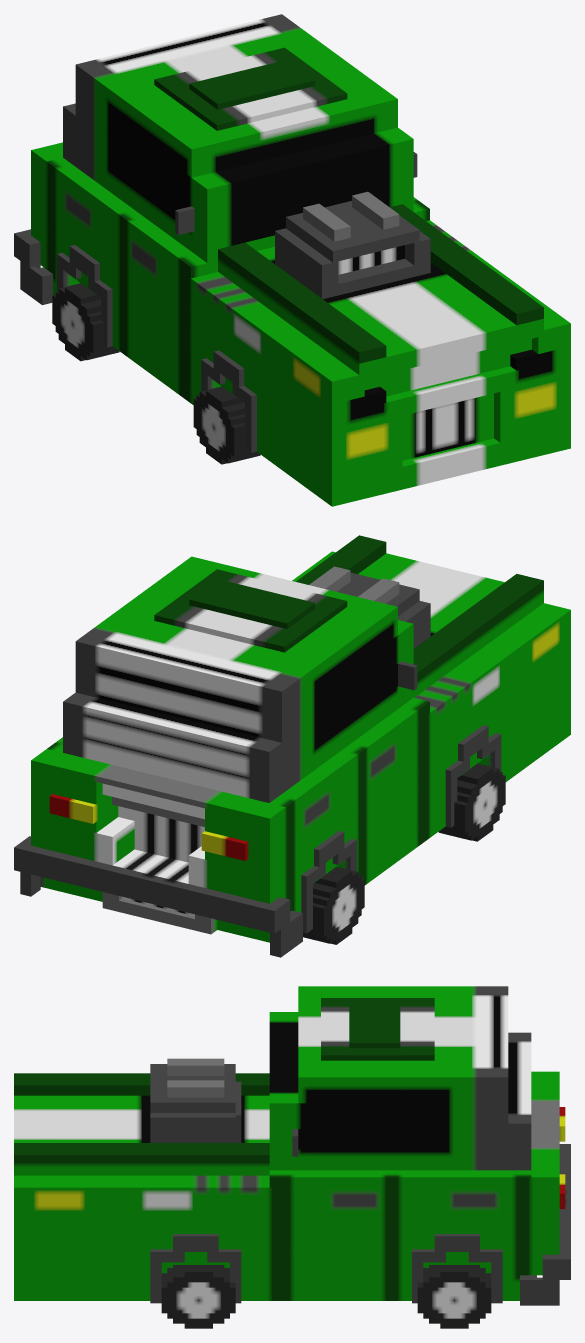
Rendered from car_super_4.fbx.
3 renders of one model, top to bottom at view 1: azimuth 30°, elevation 25°; view 2: azimuth 150°, elevation 25°; view 3: azimuth 270°, elevation 25°, orthographic. The views are drawn at different scales.
Parts seen in each view (by area): view 1: body, back_right_wheel, back_left_wheel; view 2: body, back_left_wheel, back_right_wheel; view 3: body, front_right_wheel, front_left_wheel.
Part boxes in pixels (x1,y1,x2,y2): body: (14,14,570,506); back_right_wheel: (193,386,260,464); back_left_wheel: (52,283,119,361); body: (14,535,570,957); back_left_wheel: (303,867,364,944); back_right_wheel: (438,763,505,841); body: (14,986,570,1305); front_right_wheel: (161,1265,235,1328); front_left_wheel: (417,1265,491,1328).
Bounding box in the file's own units: 50 × 48 × 98.
1 material, 1 textured.
